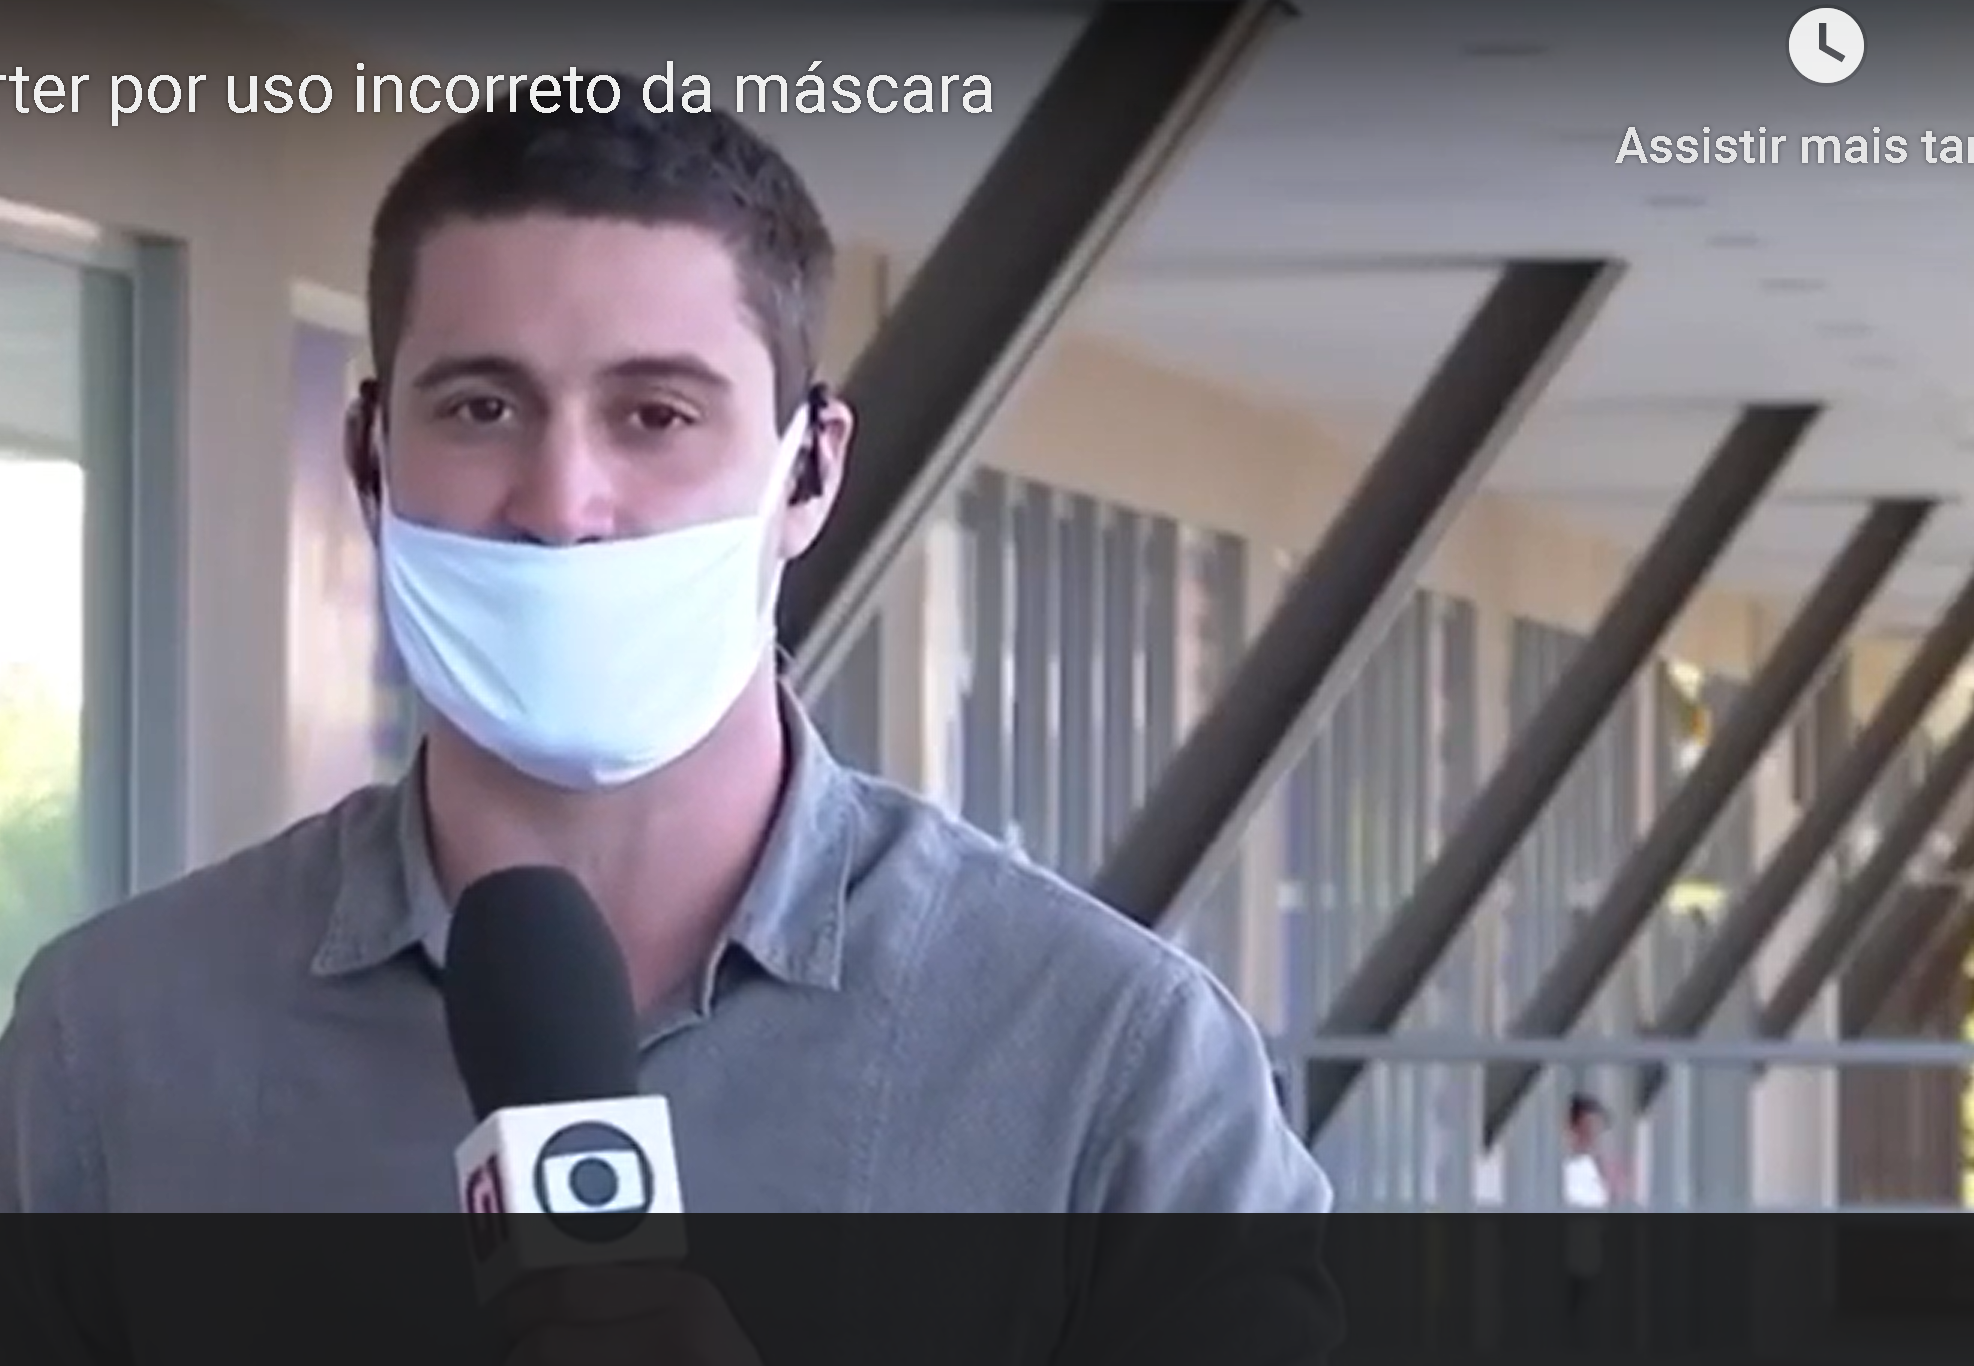mask_weared_incorrect: (309, 98, 868, 814)
